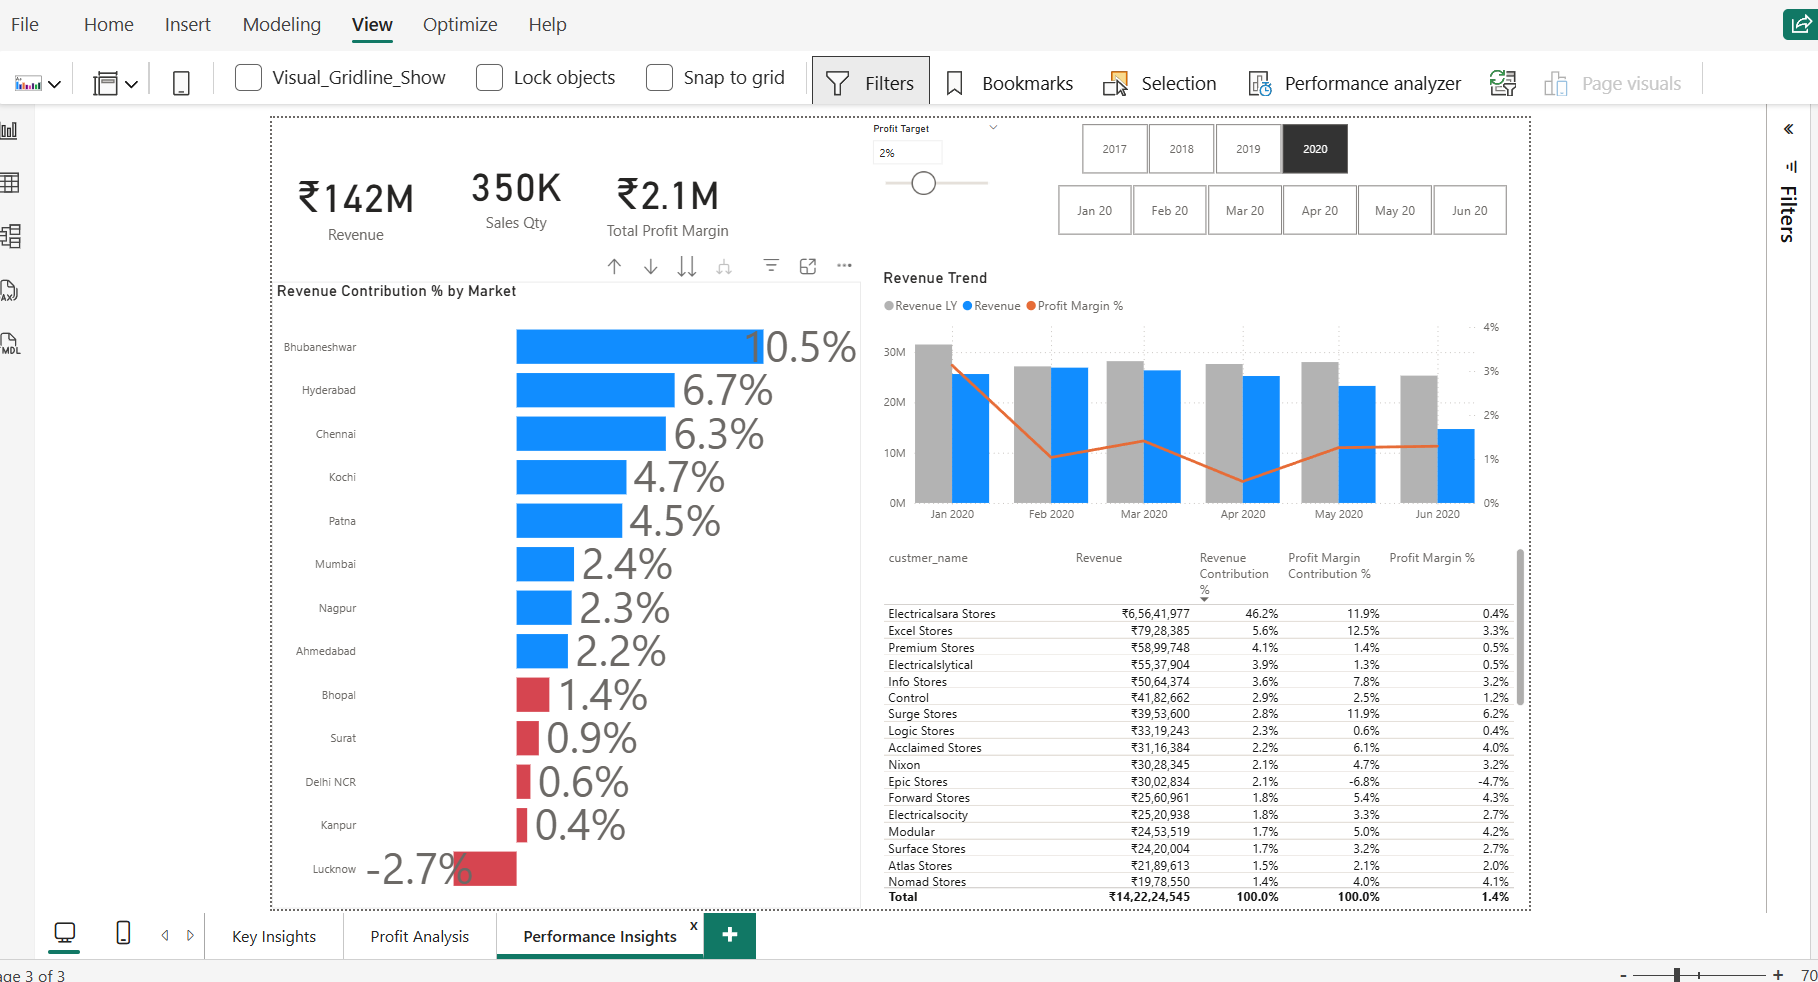

What the dashboard file says about the page in this screenshot:
{"tool":"powerbi","page":{"name":"Performance Insights","canvas":[1350,850],"ordinal":2},"visuals":[{"type":"card","fields":{"Values":["BaseMeasures (2).Revenue"]},"box":[0,0,179.6,184.8],"z":0},{"type":"card","fields":{"Values":["BaseMeasures (2).Sales Qty"]},"box":[179.6,0,164.1,161],"z":1000},{"type":"slicer","fields":{"Values":["sales date.year"]},"box":[844.4,0,335.5,66.1],"z":2000},{"type":"slicer","fields":{"Values":["sales date.cy_date"]},"box":[818.6,66.1,531.6,66.1],"z":3000},{"type":"tableEx","title":"Top 5 Customers","fields":{"Values":["sales customers.custmer_name","BaseMeasures (2).Revenue","BaseMeasures (2).Revenue Contribution %","BaseMeasures (2).Profit Margin Contribution %","BaseMeasures (2).Profit Margin %"]},"box":[651.4,457.3,698.8,392.3],"z":4000},{"type":"lineClusteredColumnComboChart","title":"Revenue Trend","fields":{"Category":["sales date.cy_date"],"Y":["BaseMeasures (2).Revenue LY","BaseMeasures (2).Revenue"],"Y2":["BaseMeasures (2).Profit Margin %"]},"box":[651.4,161,672,281.8],"z":5000},{"type":"card","fields":{"Values":["BaseMeasures (2).Total Profit Margin"]},"box":[343.7,0,161,176.5],"z":6000},{"type":"barChart","title":"Revenue Contribution % by Market","fields":{"Y":["BaseMeasures (2).Profit Margin %"],"Category":["sales markets.zone","sales markets.markets_name","sales customers.custmer_name","sales products.product_code"]},"box":[0,176.3,633.4,673],"z":7000},{"type":"slicer","fields":{"Values":["Profit Target.Profit Target"]},"box":[633.4,0,159.7,131.5],"z":8000}]}

Visuals, with their boxes on the page's 1350x850 design canvas (x1, y1, x2, y2). These are canvas units, not pixel positions in the 1818x982 screenshot, which may show the page scaled, cropped or inside an application window:
card - BaseMeasures (2).Revenue: x1=0 y1=0 x2=180 y2=185
card - BaseMeasures (2).Sales Qty: x1=180 y1=0 x2=344 y2=161
slicer - sales date.year: x1=844 y1=0 x2=1180 y2=66
slicer - sales date.cy_date: x1=819 y1=66 x2=1350 y2=132
"Top 5 Customers" tableEx: x1=651 y1=457 x2=1350 y2=850
"Revenue Trend" lineClusteredColumnComboChart: x1=651 y1=161 x2=1323 y2=443
card - BaseMeasures (2).Total Profit Margin: x1=344 y1=0 x2=505 y2=176
"Revenue Contribution % by Market" barChart: x1=0 y1=176 x2=633 y2=849
slicer - Profit Target.Profit Target: x1=633 y1=0 x2=793 y2=132
